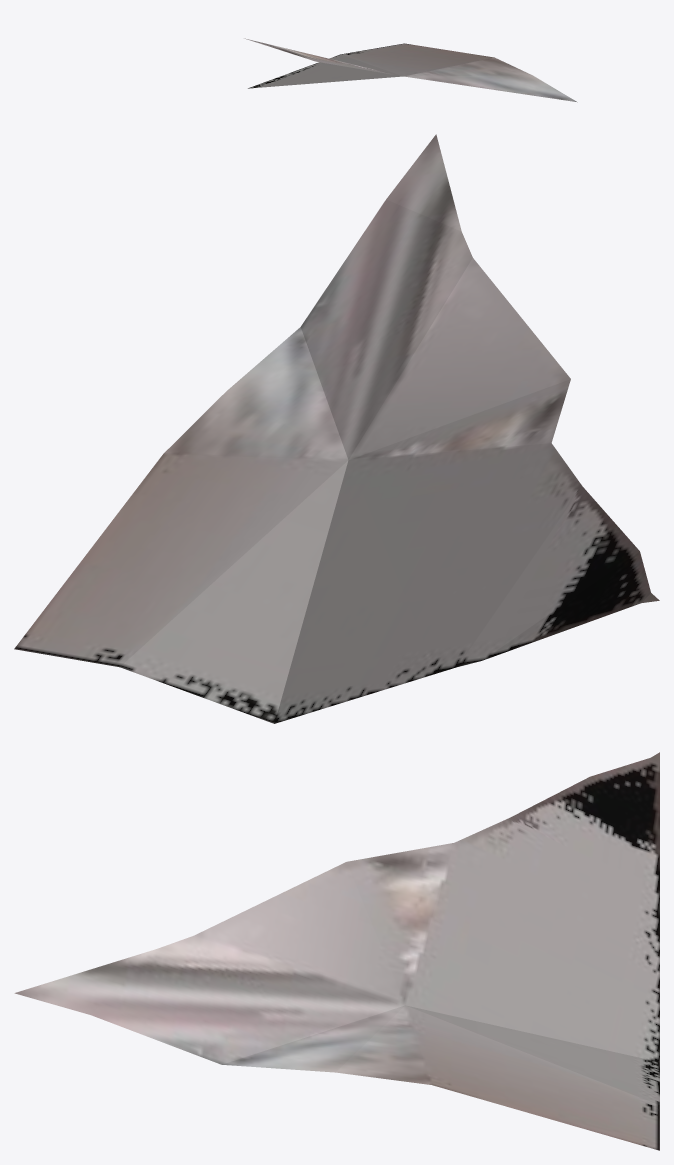
The picture shows the model from 3 angles, top to bottom: view 1: azimuth 30°, elevation 25°; view 2: azimuth 150°, elevation 25°; view 3: azimuth 270°, elevation 25°; orthographic projection. The views are drawn at different scales.
Size of the model in its own units: 1.03 by 0.3322 by 1.17.
1 material, 1 textured.
